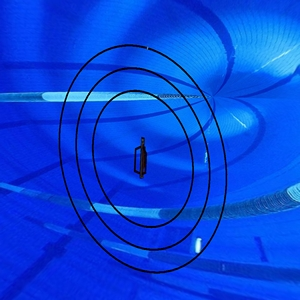circle: (56, 42, 229, 275)
submarine: (130, 132, 152, 183)
